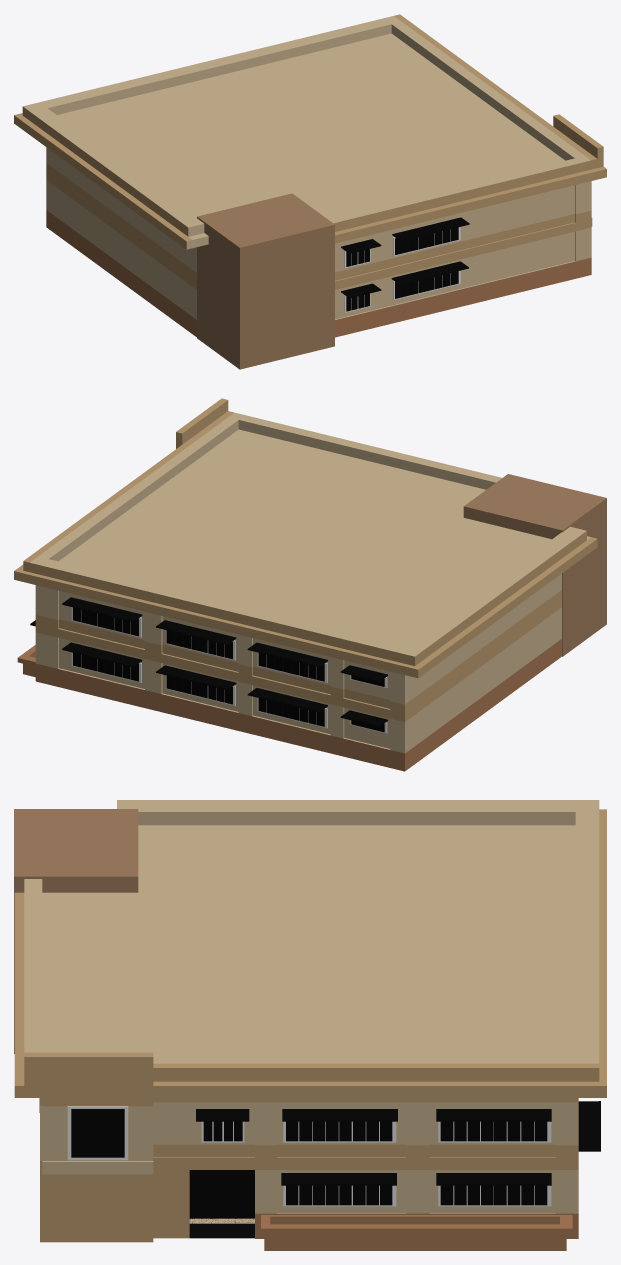
File: metalCasting.glb
3 renders of one model, top to bottom at view 1: azimuth 30°, elevation 25°; view 2: azimuth 150°, elevation 25°; view 3: azimuth 270°, elevation 25°, orthographic. The views are drawn at different scales.
Parts seen in each view (by area): view 1: Cube.159; view 2: Cube.159; view 3: Cube.159.
Part boxes in pixels (left/top/right/bottom): Cube.159: left=14, top=14, right=606, bottom=369; Cube.159: left=14, top=398, right=606, bottom=771; Cube.159: left=14, top=800, right=606, bottom=1250.
Size of the model in its own units: 3.76 by 1.18 by 3.34.
